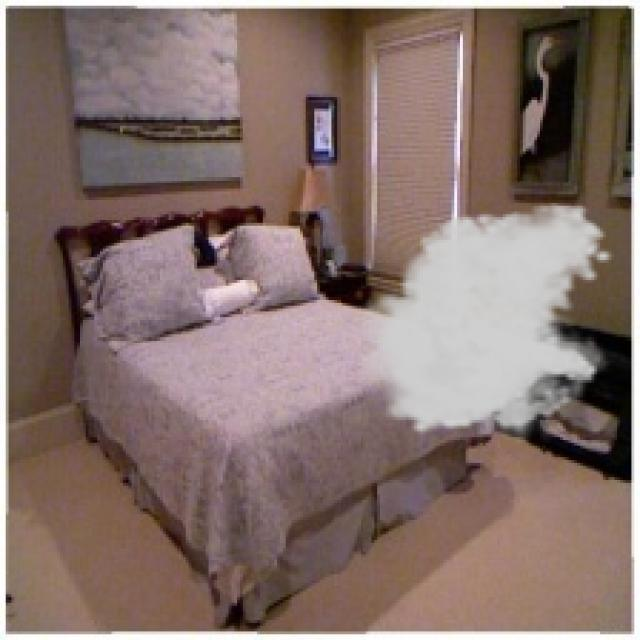Smoke: (348, 201, 614, 448)
